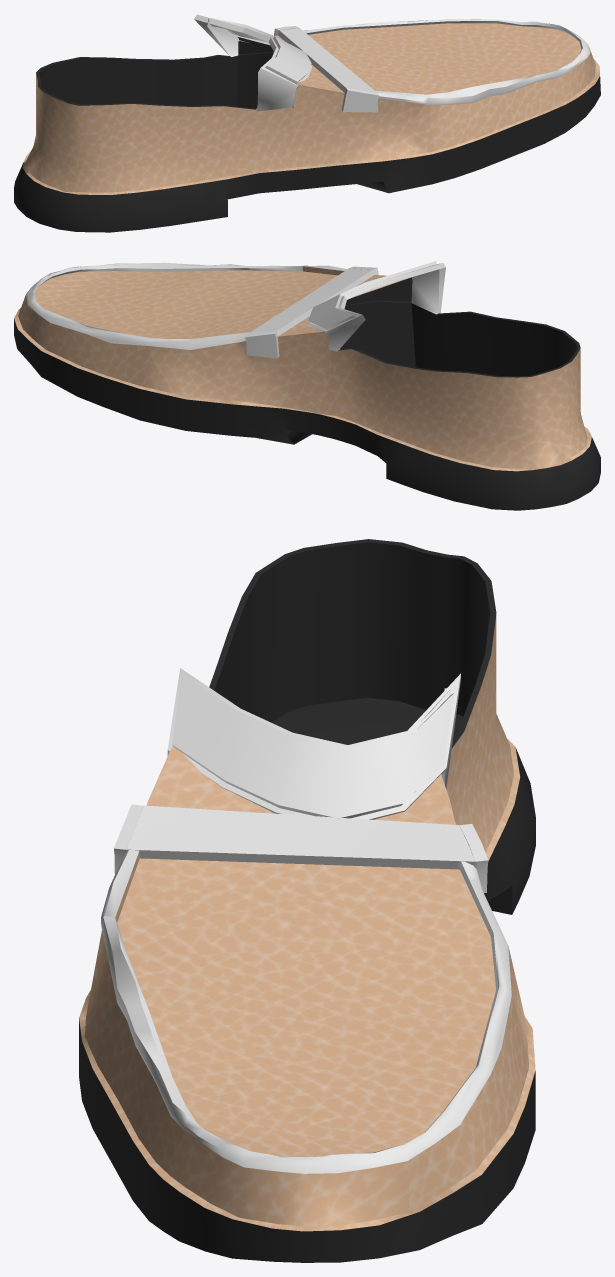
The model's file is loafers1.fbx.
3 renders of one model, top to bottom at view 1: azimuth 30°, elevation 25°; view 2: azimuth 150°, elevation 25°; view 3: azimuth 270°, elevation 25°, orthographic. The views are drawn at different scales.
Visible parts, largest first — view 1: loafer1; view 2: loafer1; view 3: loafer1.
Boxes of the visible parts, x1,y1,x2,y2 form: loafer1: (14, 14, 600, 232); loafer1: (14, 261, 600, 510); loafer1: (79, 539, 535, 1262).
Bounding box in the file's own units: 2.09 × 0.4999 × 0.7489.
